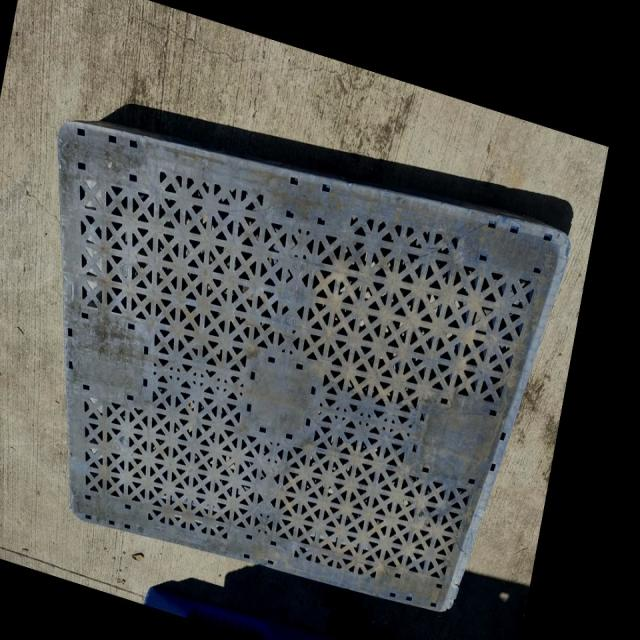non-igps: (53, 110, 578, 618)
